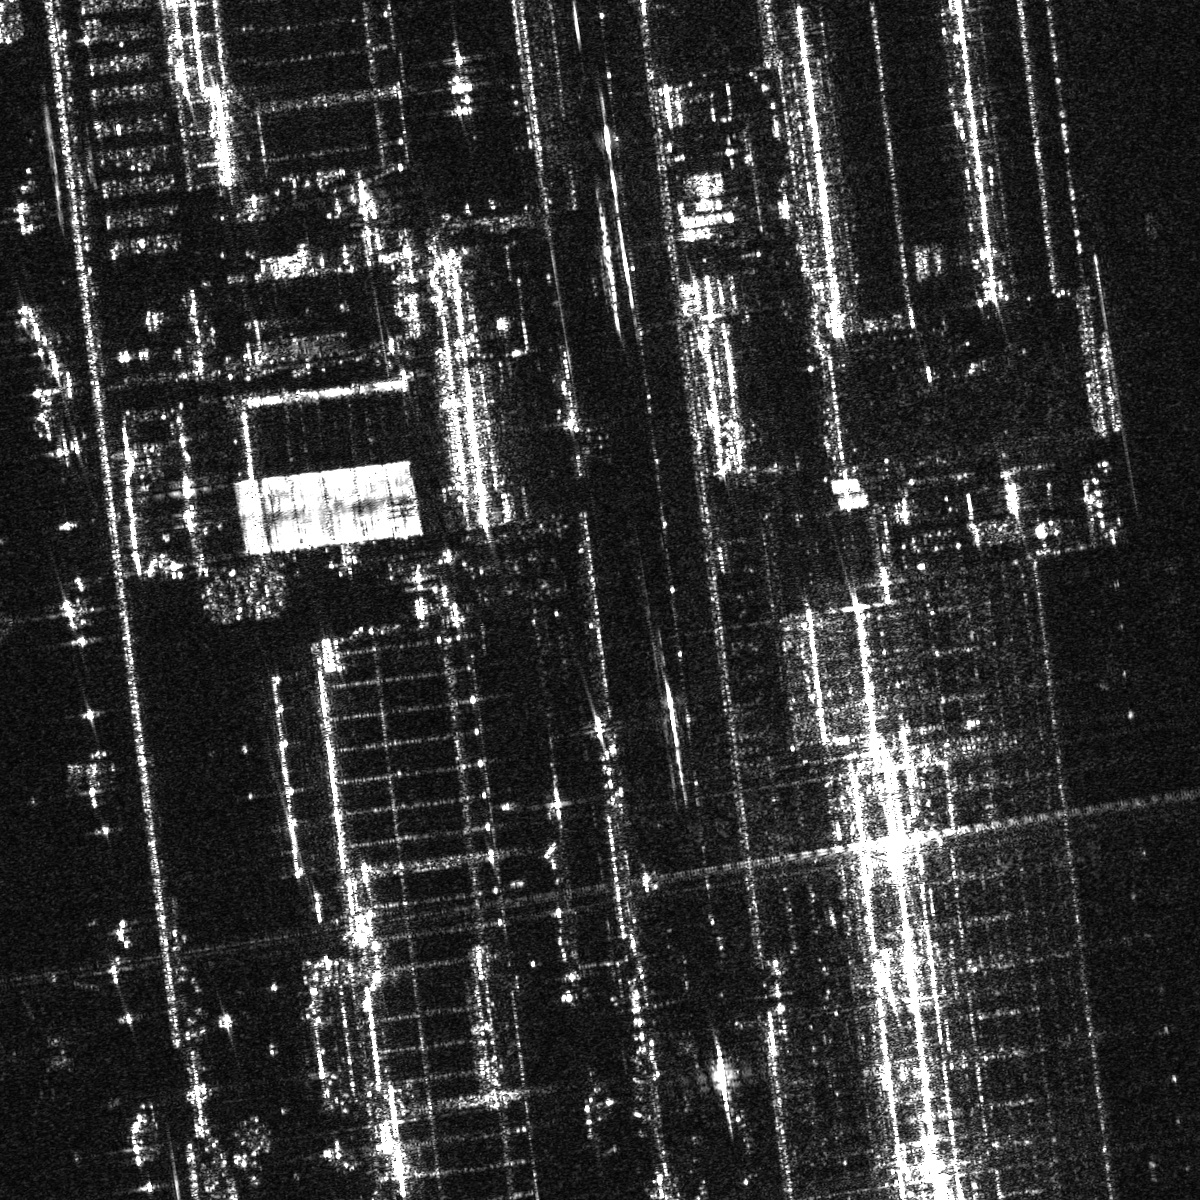Boeing787: (1, 1002, 91, 1111)
